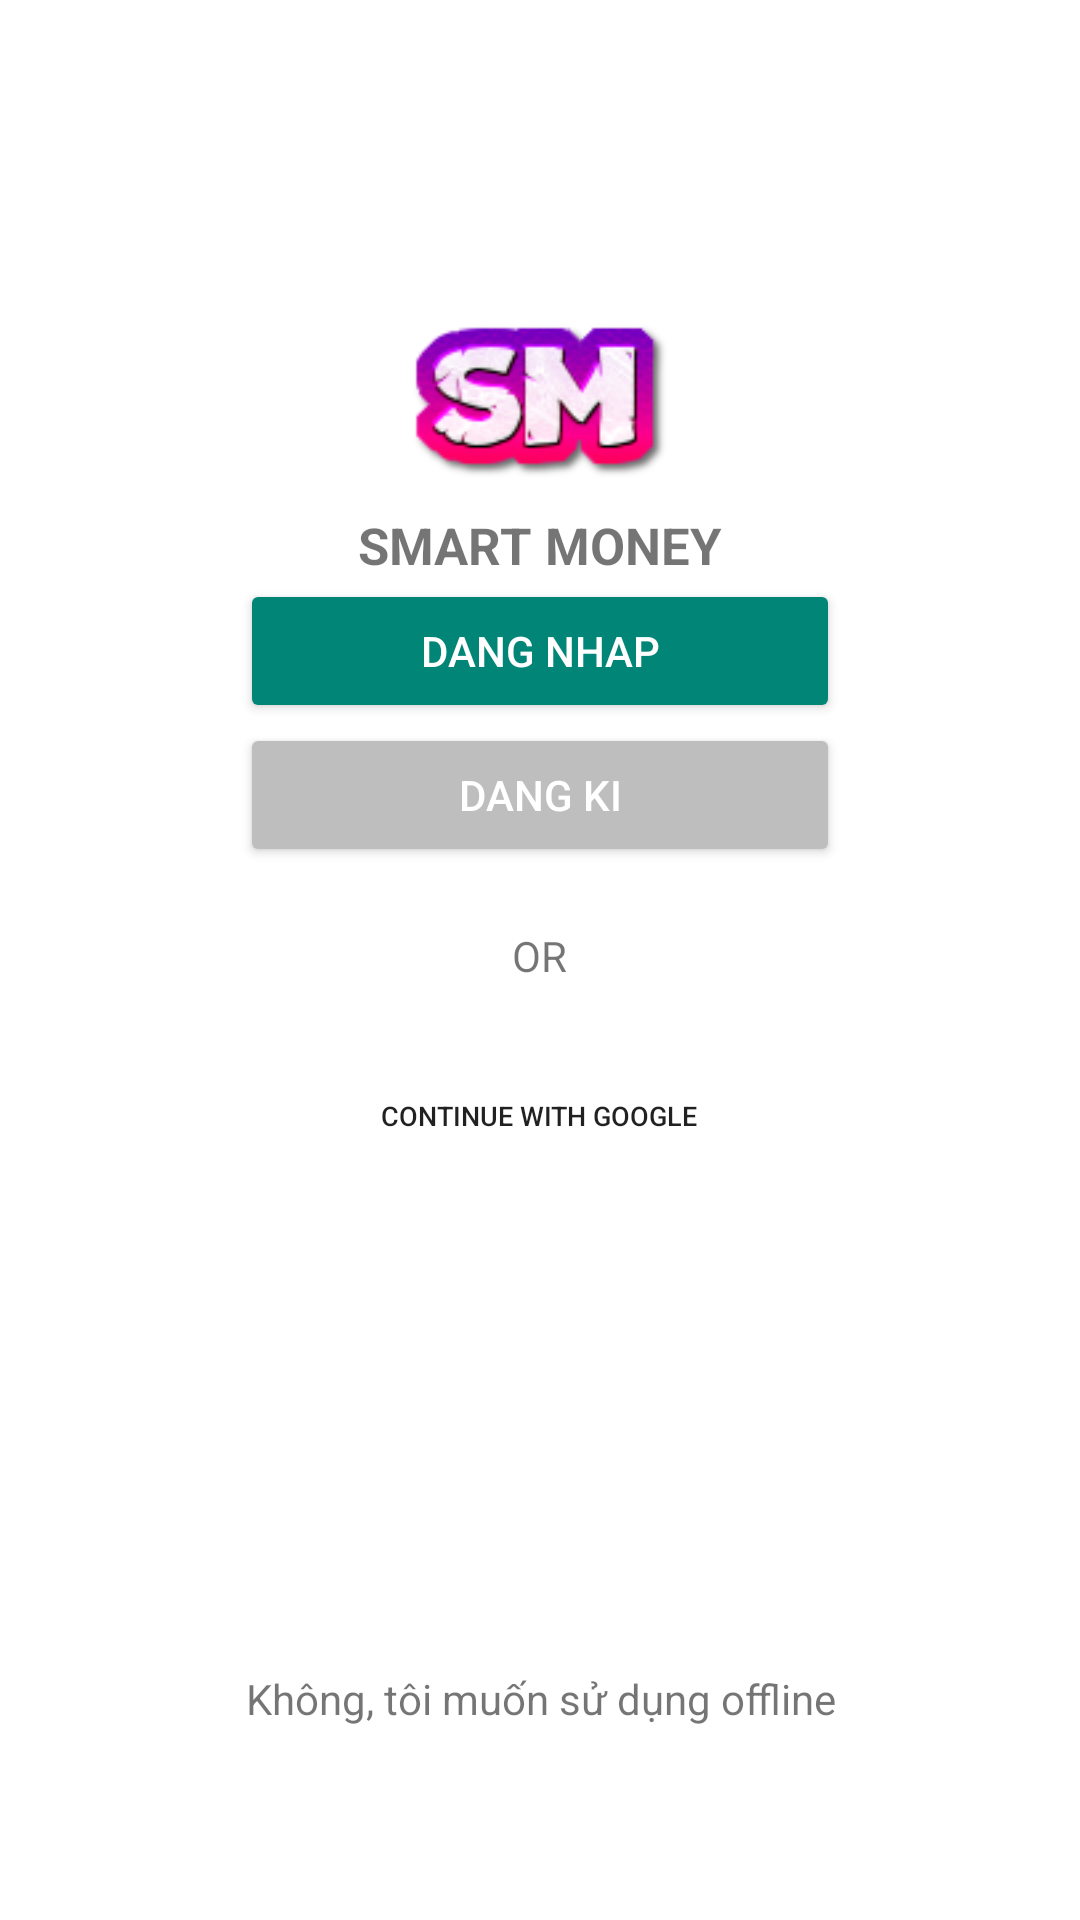

Icons on this 1080px×1920px Android screen, each with the point to tap as (x,y):
lo go: (538,400)
